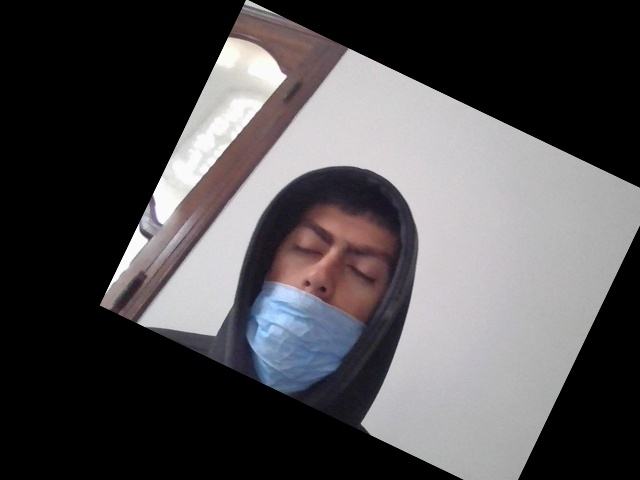mask_weared_incorrect: (260, 189, 395, 407)
